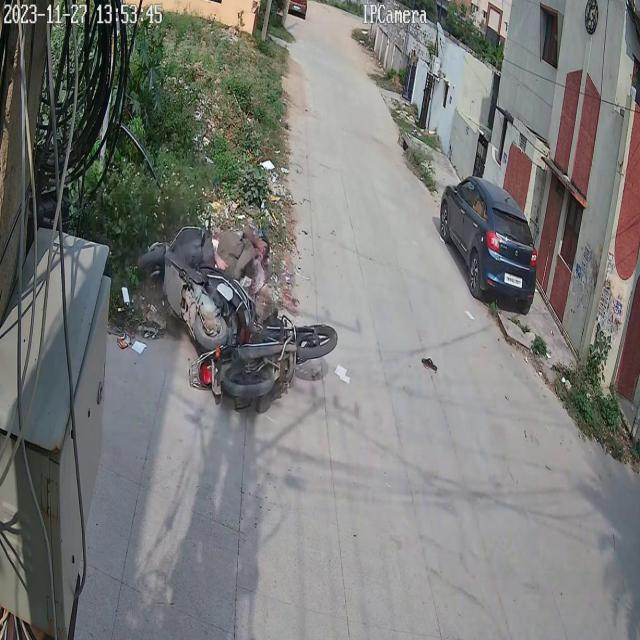accident: (129, 203, 343, 413)
